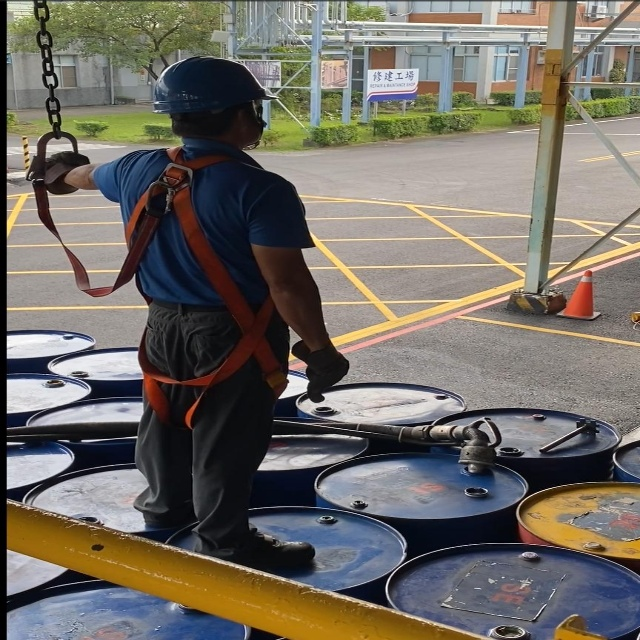Arnes_seguridad: (107, 145, 297, 432)
